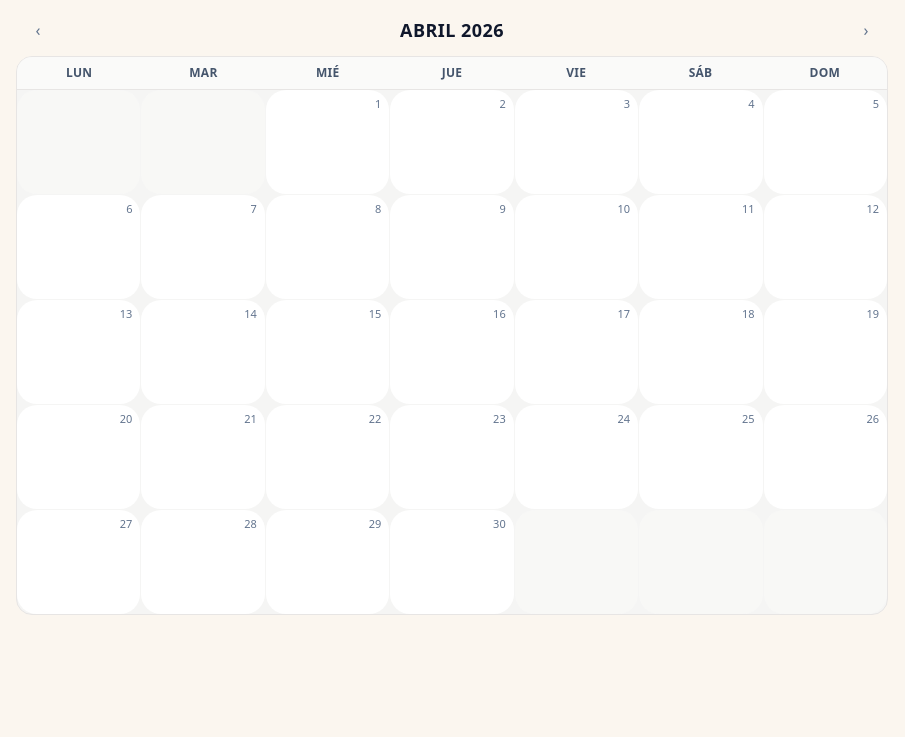
it: CalendarGrid › navigates to previous month on swipe right
Press the mouse on the element with test id "calendar-grid" at (452,336), box [16,56,888,615]
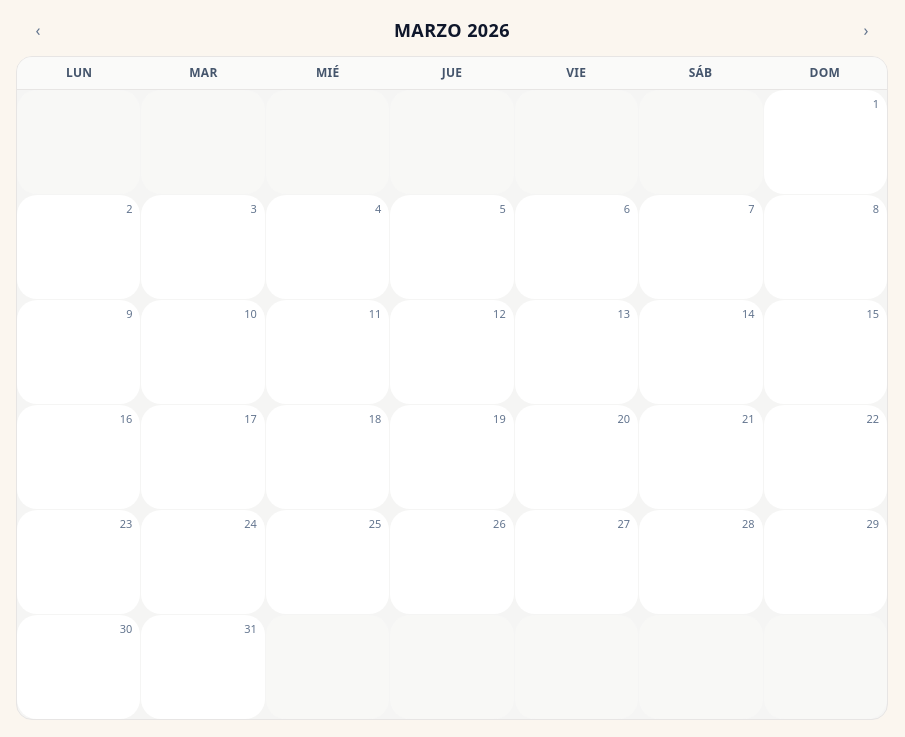
Check: the heading "Marzo 2026" is shown, box [394,16,510,44]
